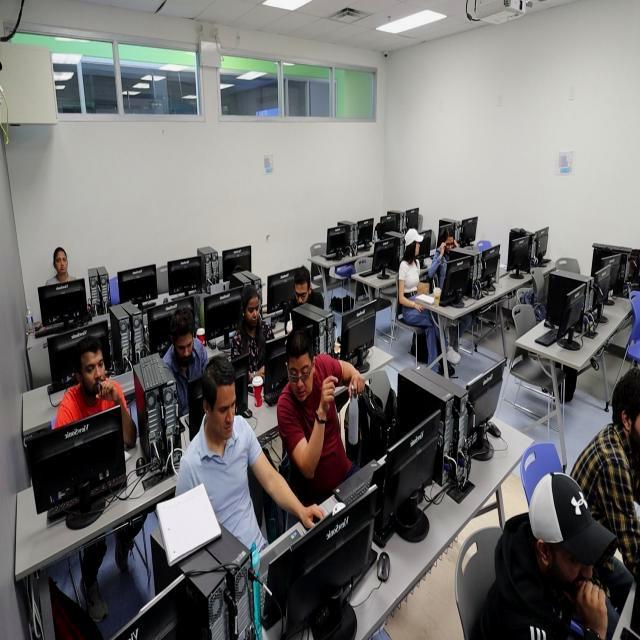Looking away: (210, 380, 237, 440), (287, 352, 315, 403), (174, 331, 193, 363), (244, 294, 260, 328), (294, 279, 310, 306), (442, 236, 456, 254), (412, 238, 421, 256)
Looking forward: (80, 348, 106, 398), (54, 247, 68, 274)
